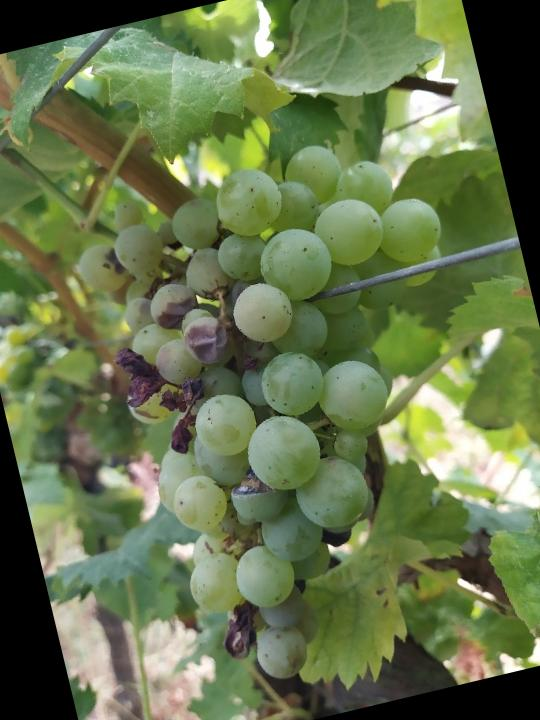grape: (72, 119, 540, 706)
